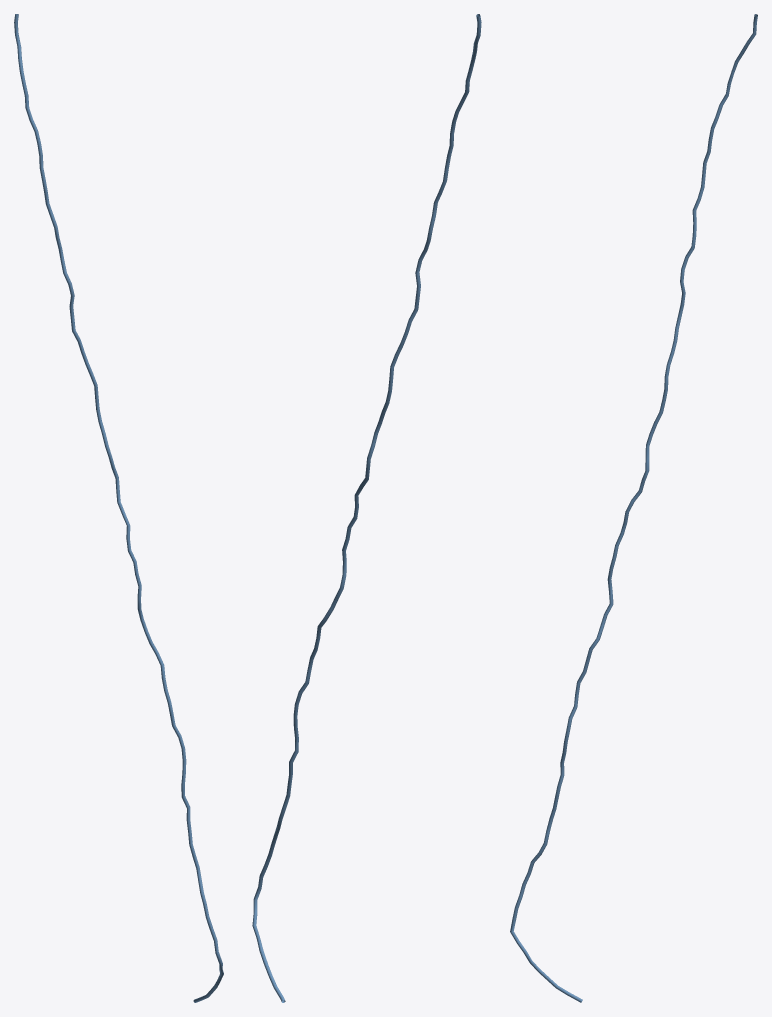
Rendered from sweep297.fbx.
3 renders of one model, left to right at view 1: azimuth 30°, elevation 25°; view 2: azimuth 210°, elevation 25°; view 3: azimuth 270°, elevation 25°, orthographic. The views are drawn at different scales.
Parts seen in each view (by area): view 1: sweep297; view 2: sweep297; view 3: sweep297.
Part boxes in pixels (<box>): sweep297: <box>14,14,223,1002</box>; sweep297: <box>252,14,481,1002</box>; sweep297: <box>510,14,757,1002</box>.
Bounding box in the file's own units: 0.6032 × 5.49 × 1.31.
